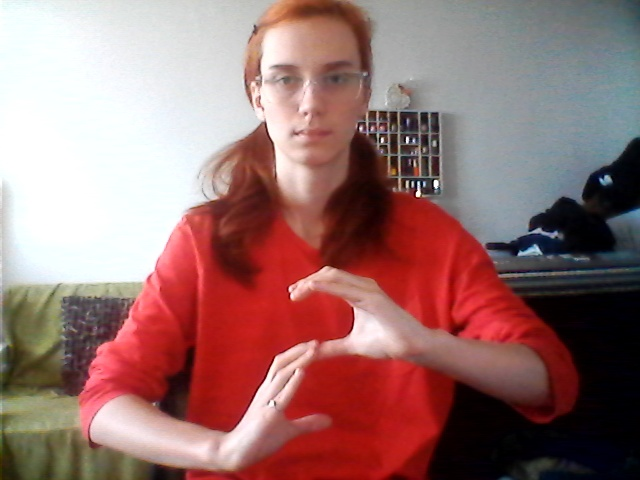s: (233, 260, 405, 470)
